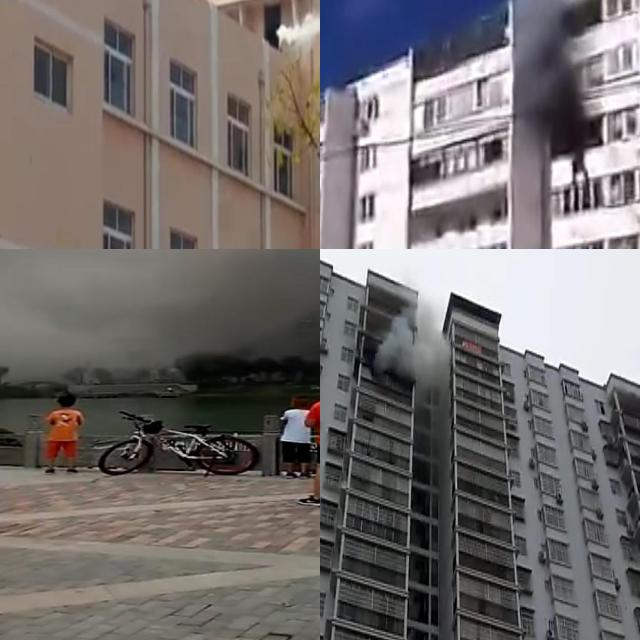smoke: (0, 249, 320, 374), (509, 0, 591, 146), (375, 299, 453, 396), (275, 0, 320, 56)
